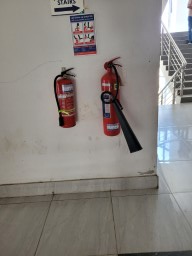fire_extinguisher: (42, 65, 115, 122), (43, 91, 102, 122), (51, 153, 96, 184)
